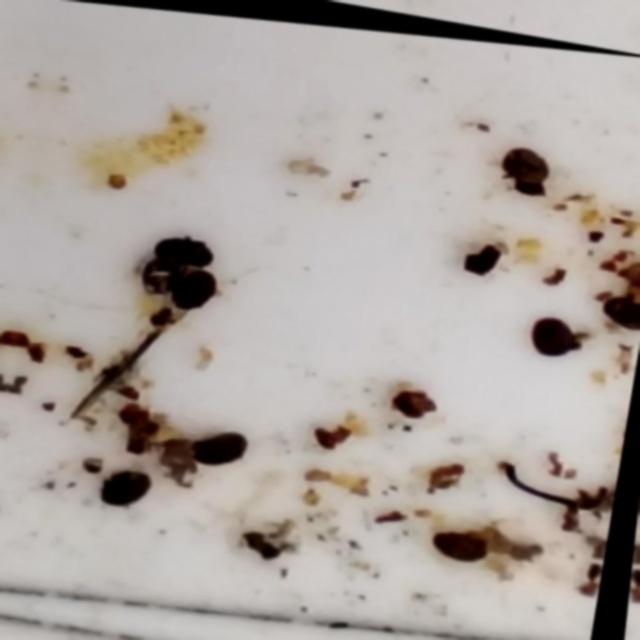varroa: (188, 422, 254, 471), (165, 262, 225, 313), (147, 228, 217, 271), (96, 463, 157, 511), (497, 144, 554, 192), (131, 251, 182, 301), (526, 315, 578, 362), (428, 526, 490, 564)
